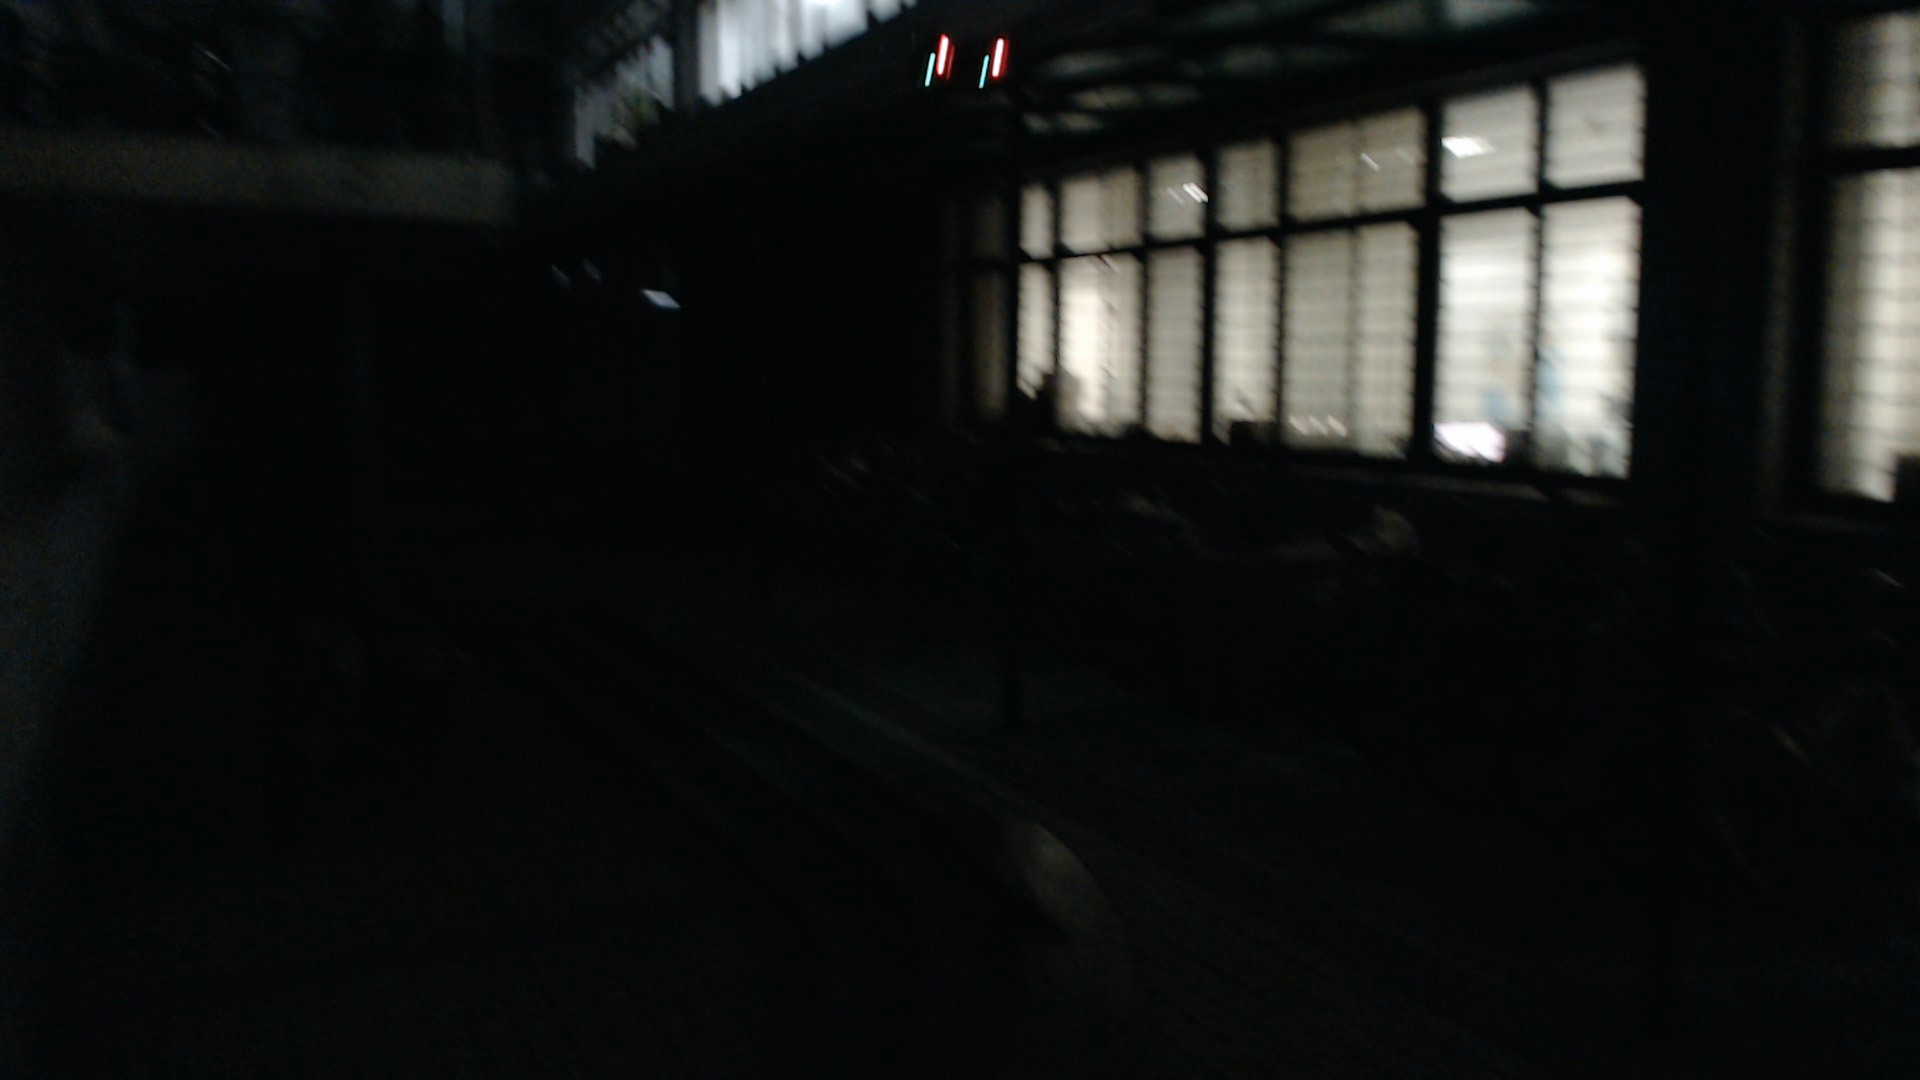test_drone: (889, 32, 1031, 105)
